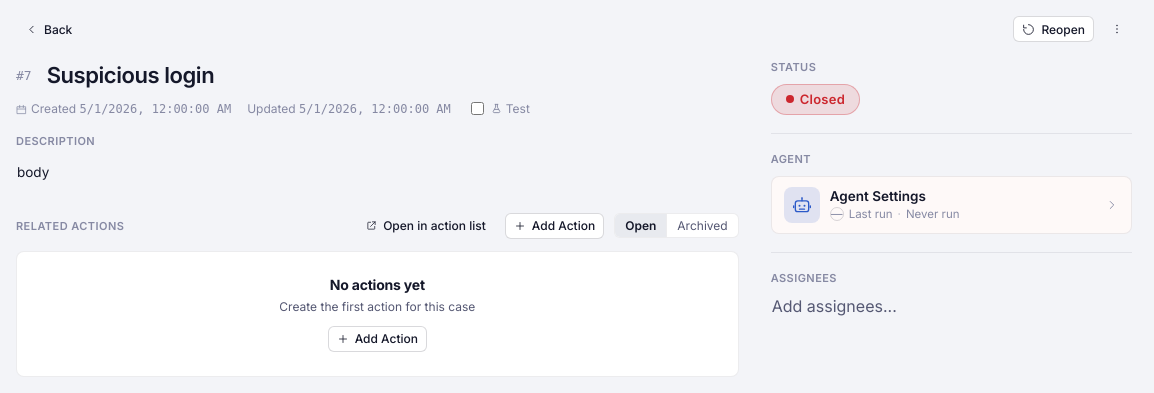
CaseDetail archive controls › offers Archive on a closed, non-archived case
Expected: the text "Suspicious login" is shown, [47,61,214,90]
Click the button with test id "case-menu-button": (1117, 29) [1102,16,1132,42]
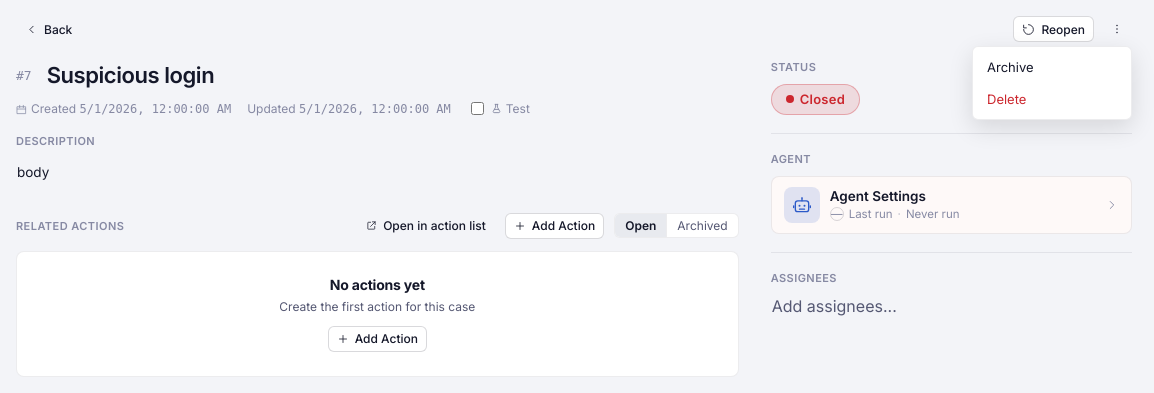
Result: the button with test id "case-archive-menu-item" is shown at [977,51,1127,83]
